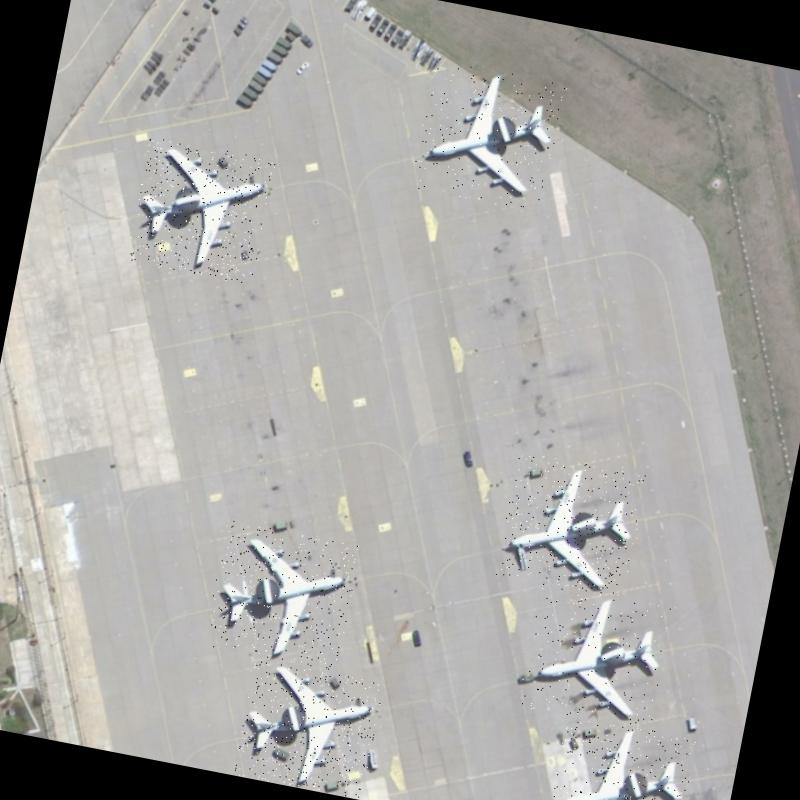A7: (410, 58, 568, 212), (202, 519, 360, 671), (516, 582, 674, 732), (494, 450, 647, 600), (125, 136, 276, 286), (233, 658, 384, 799), (543, 713, 696, 800)
